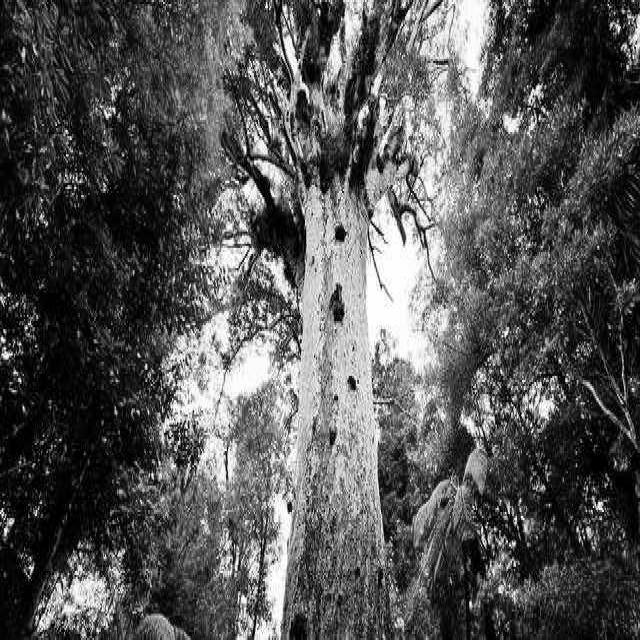Tree: (224, 4, 438, 637)
